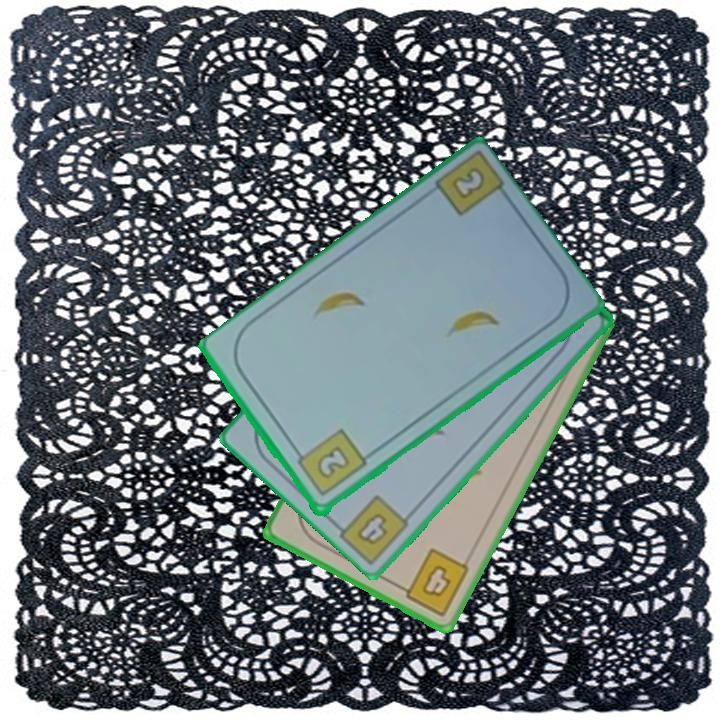2b: (291, 426, 370, 500), (447, 164, 488, 203)
4b: (392, 544, 473, 620), (353, 509, 391, 549)
